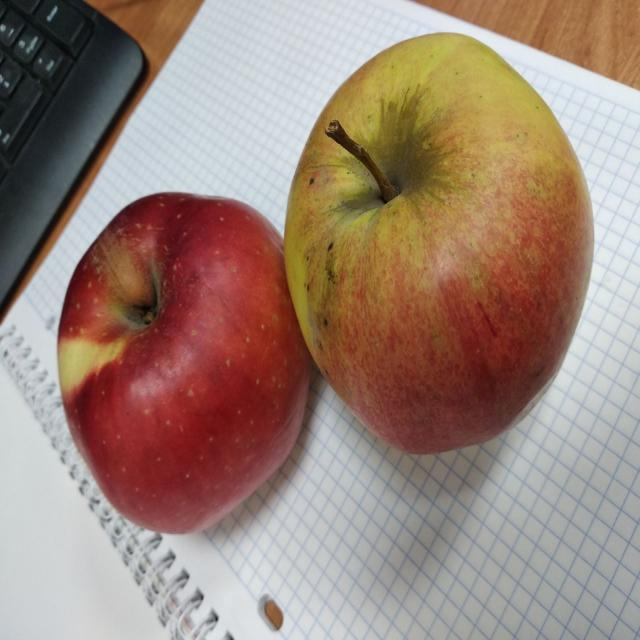Fresh Apple: (327, 45, 605, 438), (57, 194, 295, 544)
